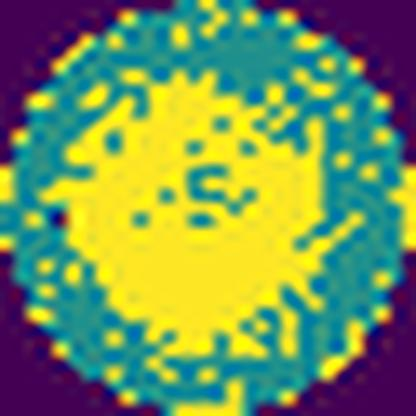Center: (41, 67, 331, 360)
